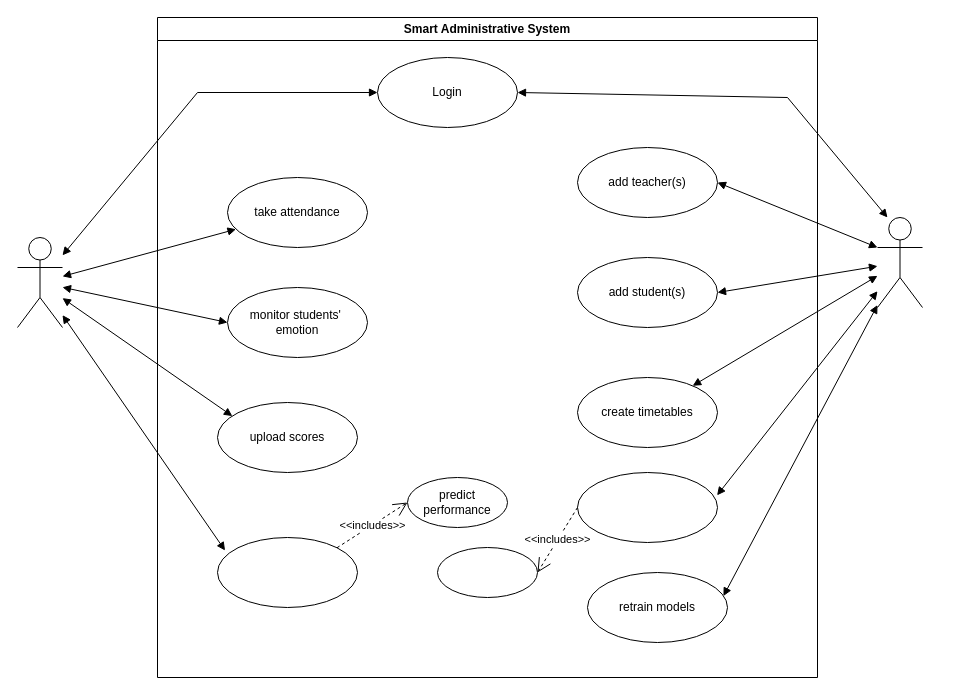
The diagram is 953 pixels wide and 695 high, and some of its shapes have lost their labels. The centre of each missing label's shape, as x and y in pixels:
"Administrator" goes at point (899, 262).
"check finances" goes at point (647, 507).
"check students' performance" goes at point (287, 572).
"forecast finances" goes at point (487, 572).
"Teacher" goes at point (39, 282).
